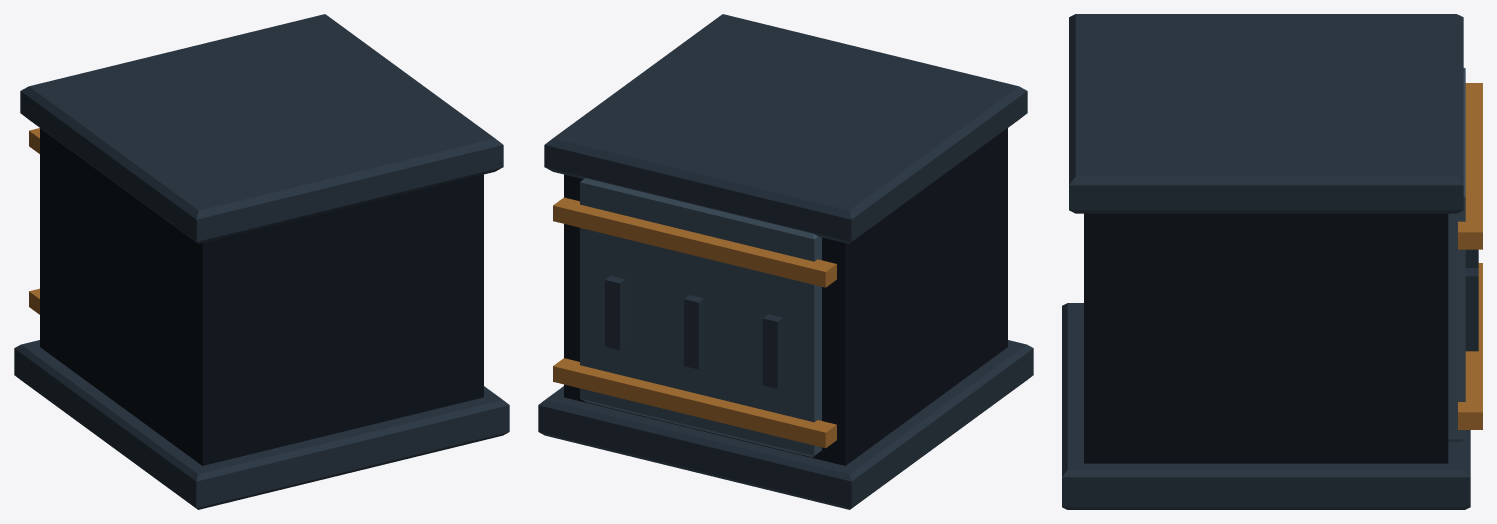
Rendered from armored_crate.obj.
3 views of the same model, side by side, from view 1: azimuth 30°, elevation 25°; view 2: azimuth 150°, elevation 25°; view 3: azimuth 270°, elevation 25° (orthographic). The views are drawn at different scales.
Parts seen in each view (by area): view 1: armored_industrial_crate; view 2: armored_industrial_crate; view 3: armored_industrial_crate.
Part boxes in pixels (<box>): armored_industrial_crate: <box>14,14,509,509</box>; armored_industrial_crate: <box>538,14,1033,509</box>; armored_industrial_crate: <box>1062,14,1482,509</box>.
Size of the model in its own units: 1.47 by 1.33 by 1.53.
